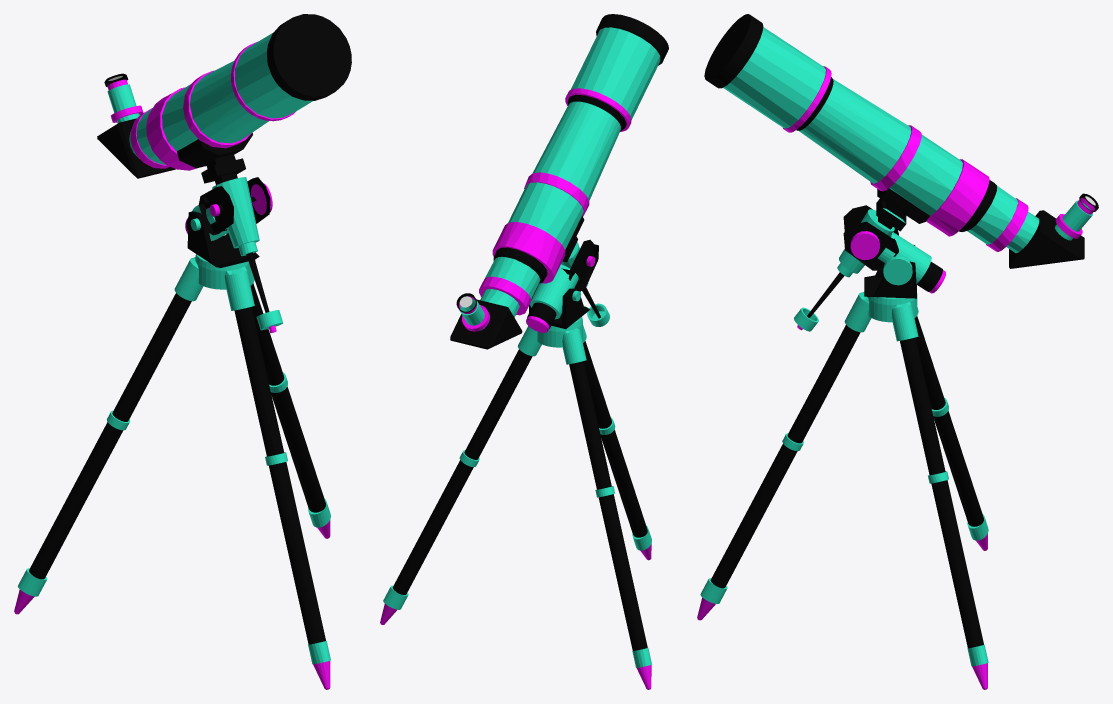
Rendered from Telescope.glb.
The picture shows the model from 3 angles, left to right: view 1: azimuth 30°, elevation 25°; view 2: azimuth 150°, elevation 25°; view 3: azimuth 270°, elevation 25°; orthographic projection. The views are drawn at different scales.
Visible parts, largest first — view 1: Cube; view 2: Cube; view 3: Cube.
Part boxes in pixels (x1,y1,x2,y2): Cube: (14, 14, 351, 689); Cube: (380, 14, 668, 689); Cube: (697, 14, 1098, 689).
Bounding box in the file's own units: 1.47 × 2.92 × 1.76.
